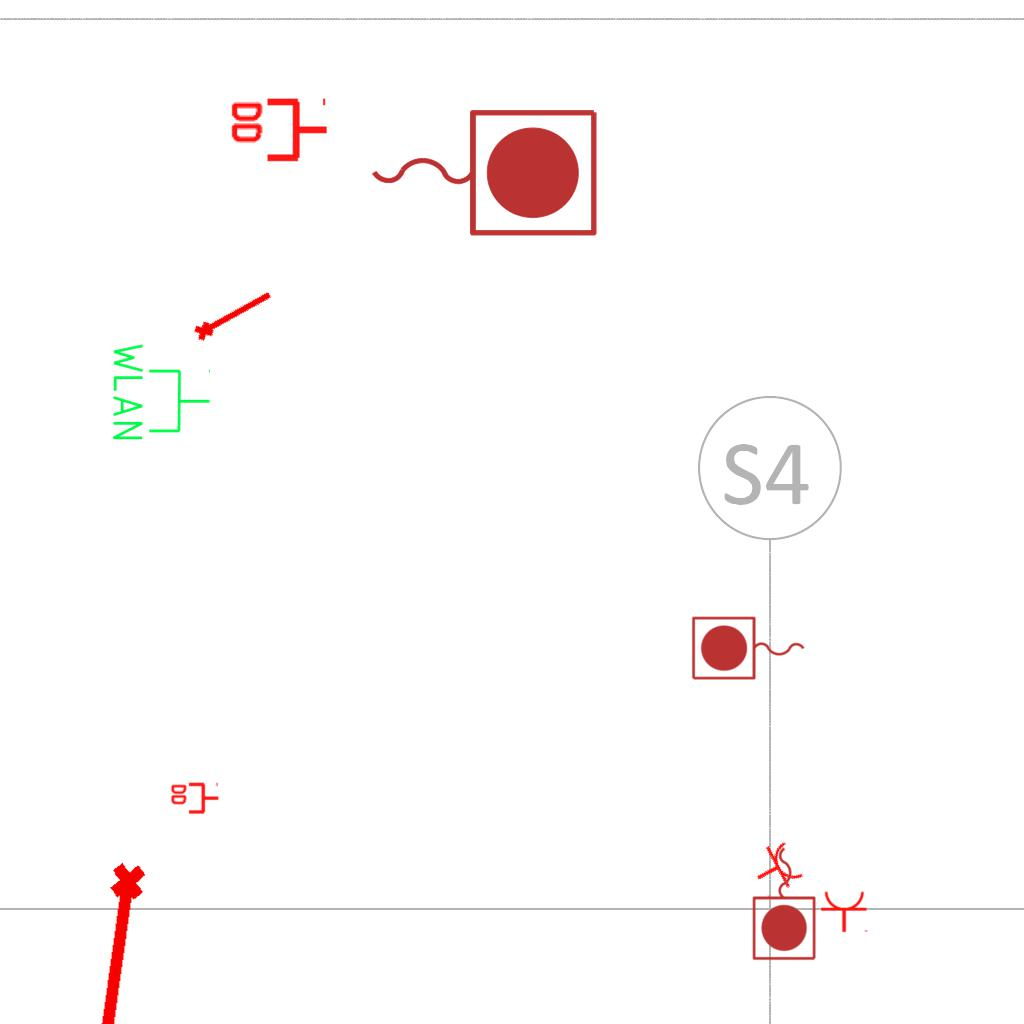ASR_Ansaugoeffnung: (85, 858, 157, 1024), (188, 282, 278, 345)
Datenanschluss_zweifach: (227, 97, 330, 166), (169, 782, 220, 816)
Schukosteckdose_einfach: (745, 836, 808, 902), (820, 890, 870, 933)
WLAN: (109, 339, 213, 444)
Zugtaster: (361, 99, 605, 243), (688, 613, 810, 685), (749, 842, 821, 964)
